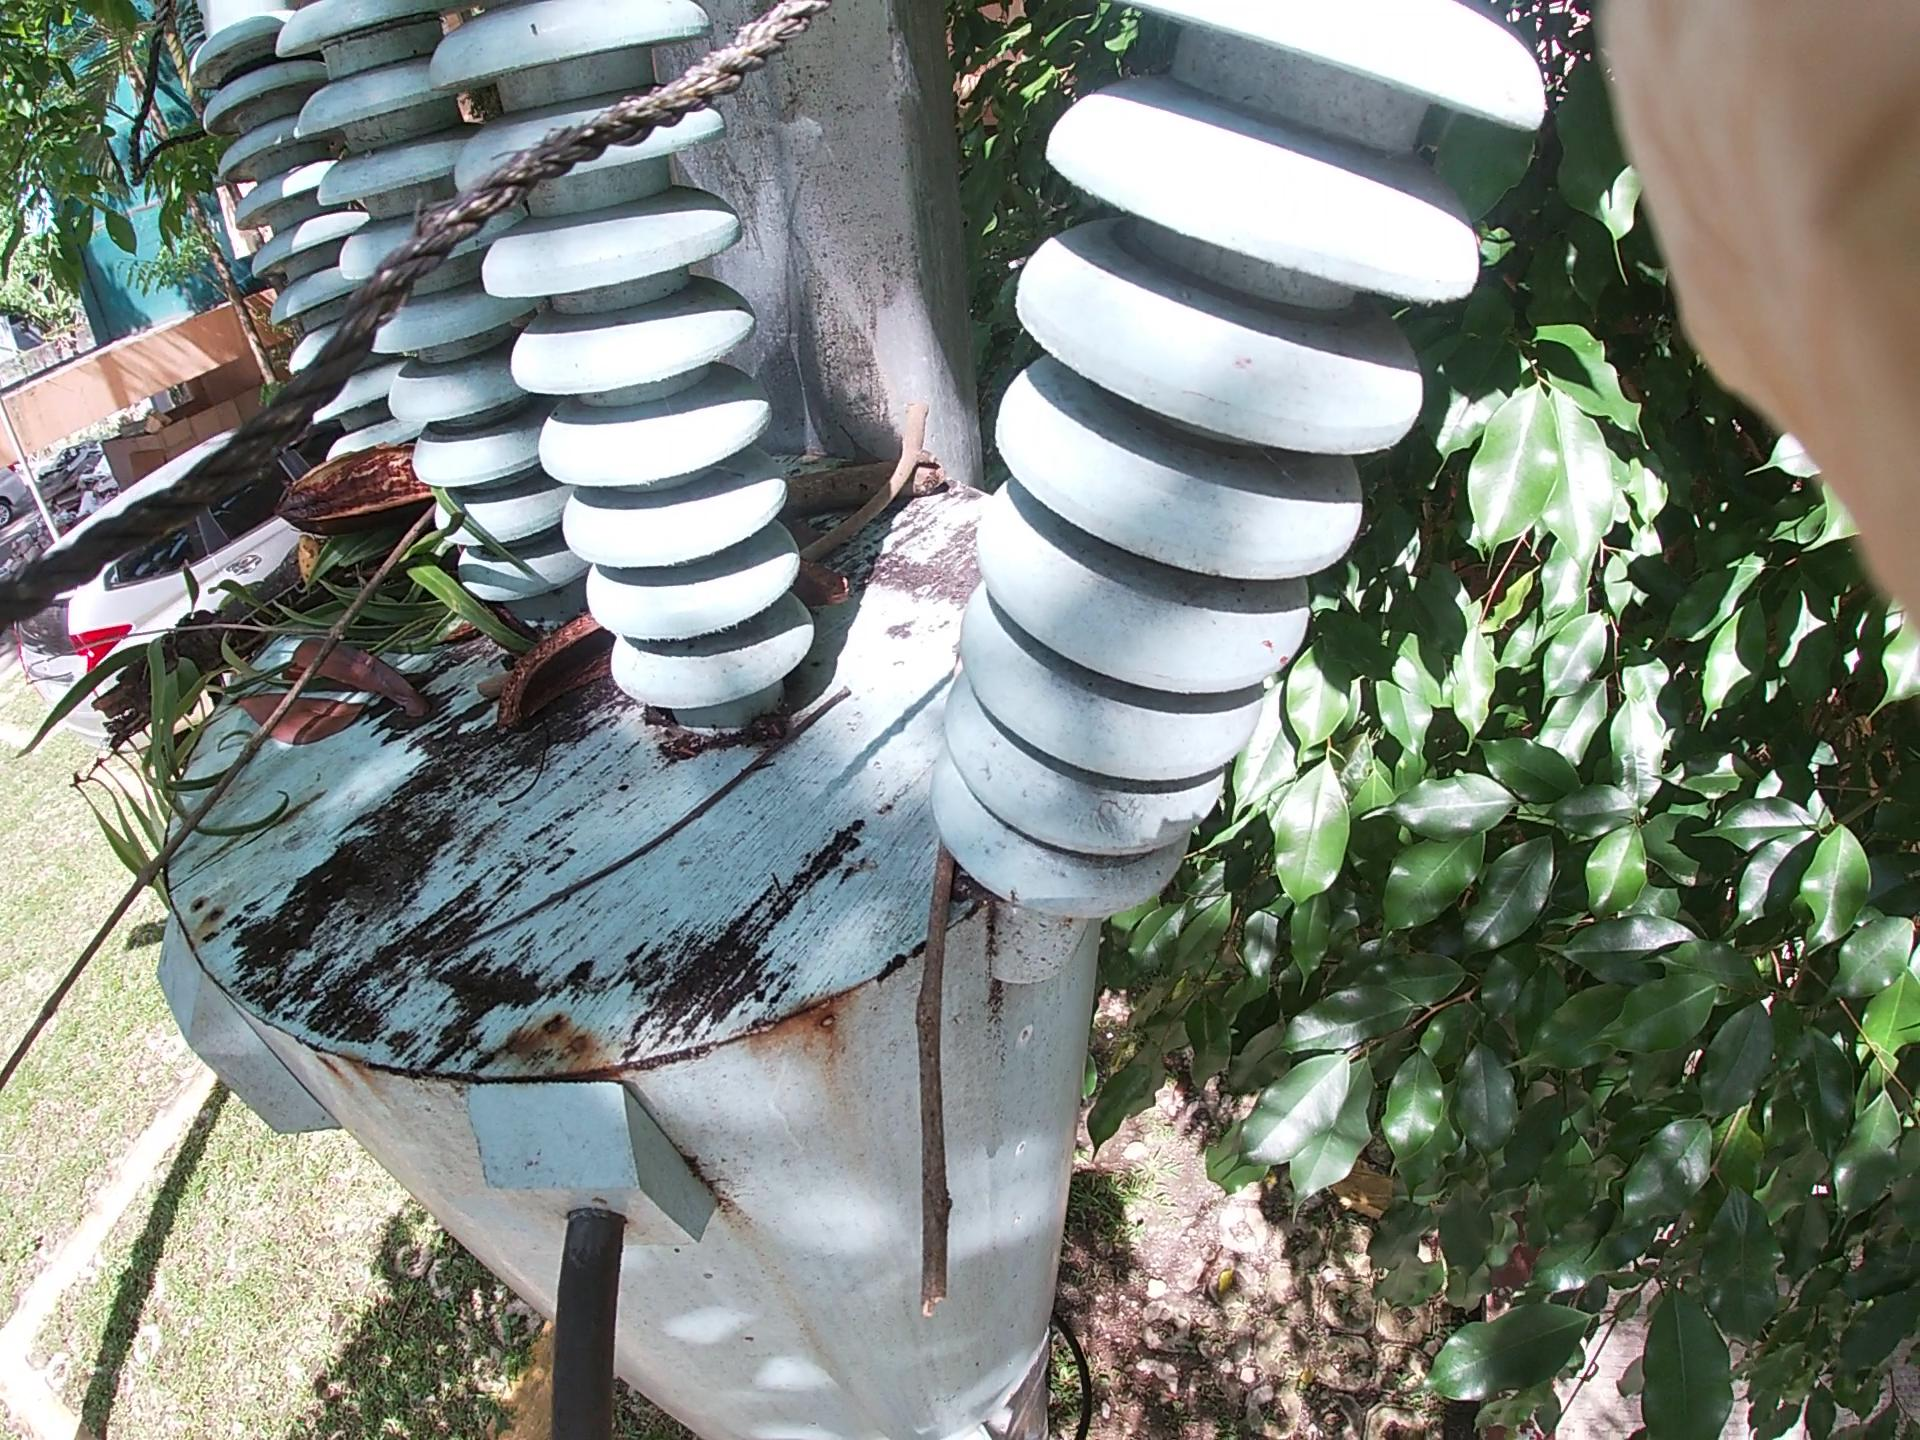branch with leaves: (116, 433, 457, 722)
leaf: (228, 575, 363, 797)
mahogany fruit: (230, 396, 503, 576), (461, 585, 720, 737)
tree branch: (12, 532, 432, 1077), (428, 703, 810, 962), (803, 342, 968, 557), (921, 821, 992, 1314)
